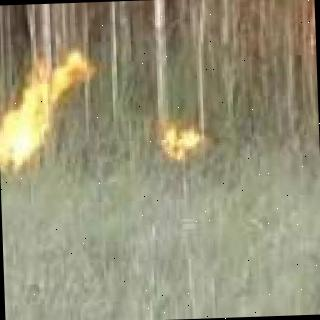fire: (0, 53, 97, 175), (152, 117, 214, 171)
